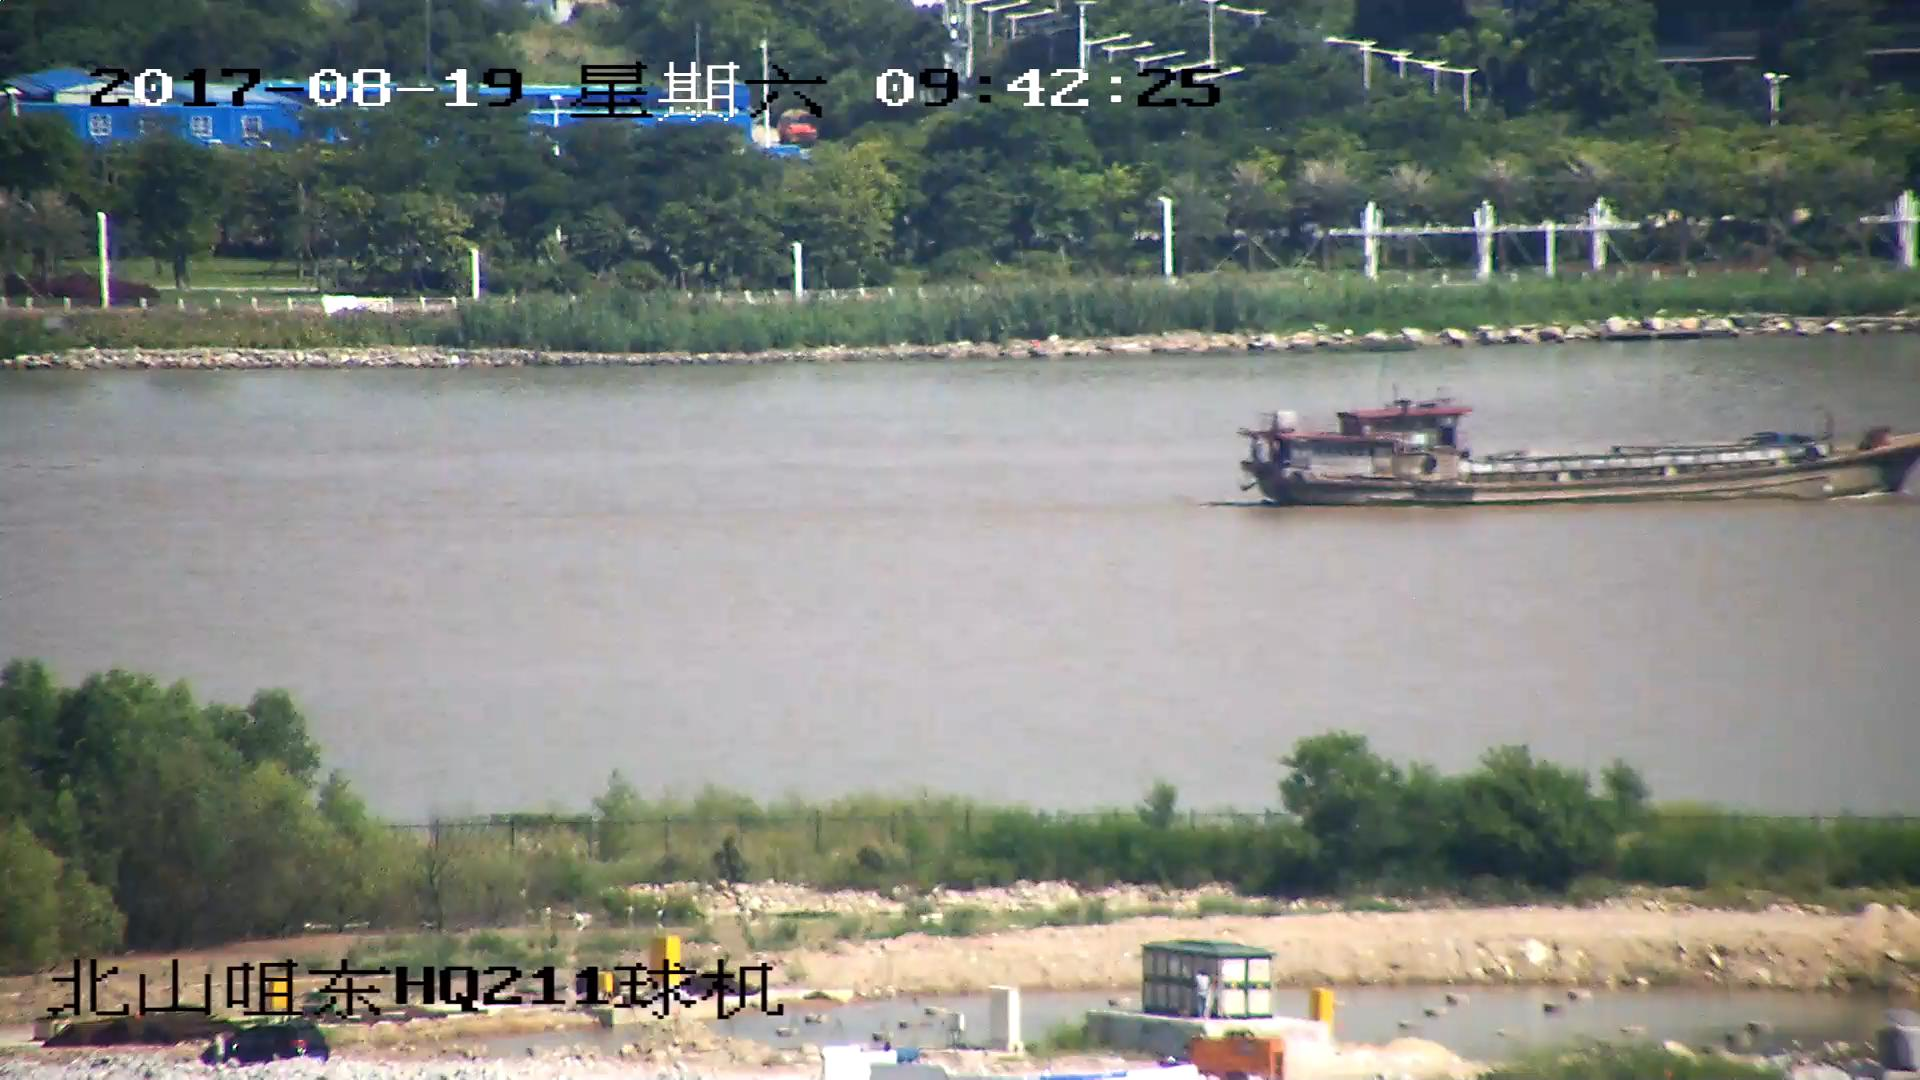fishing boat: (1235, 403, 1920, 508)
